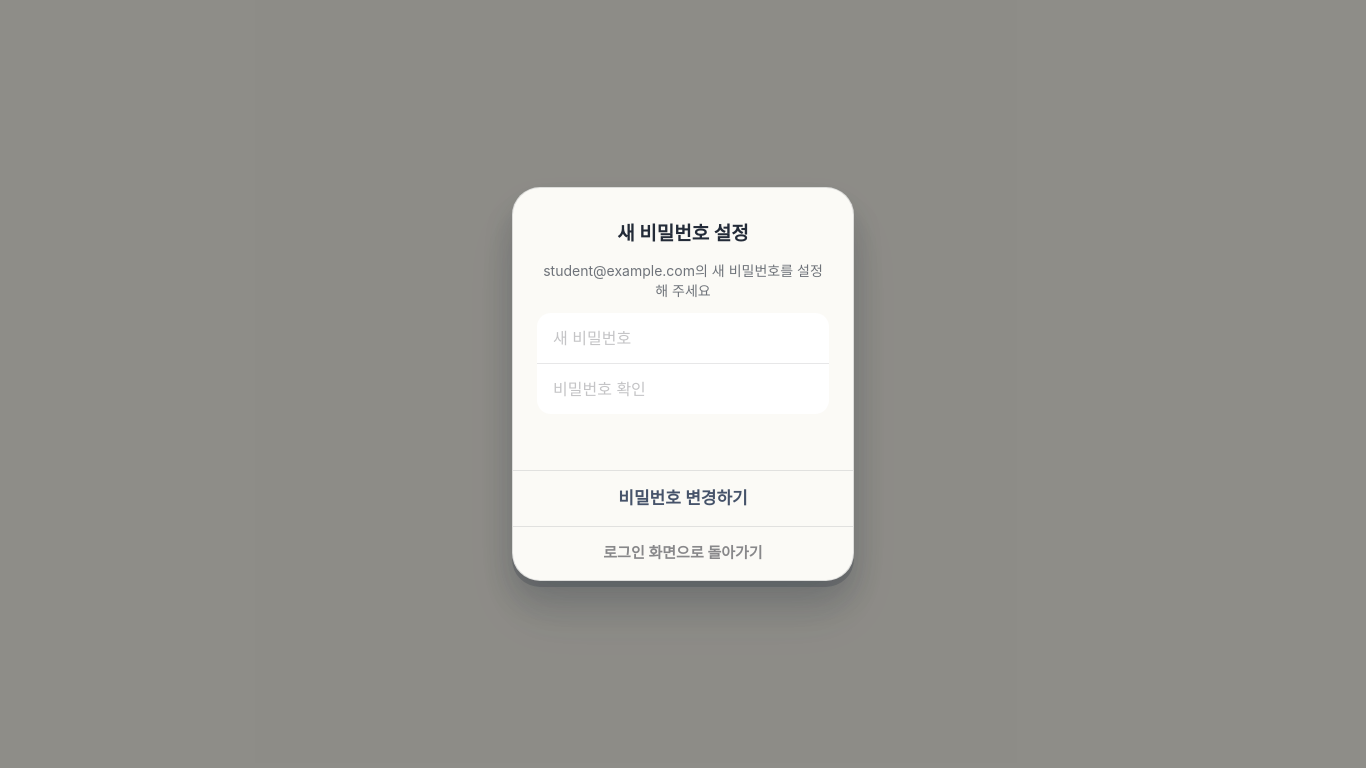
Test case: PasswordResetModal — phase=password › 두 입력값이 다르면 제출을 차단하고 불일치 오류를 표시한다(AUTH-10)
In the password field labelled "새 비밀번호": (683, 338) [553,328,813,349], type "new-pw-1234"
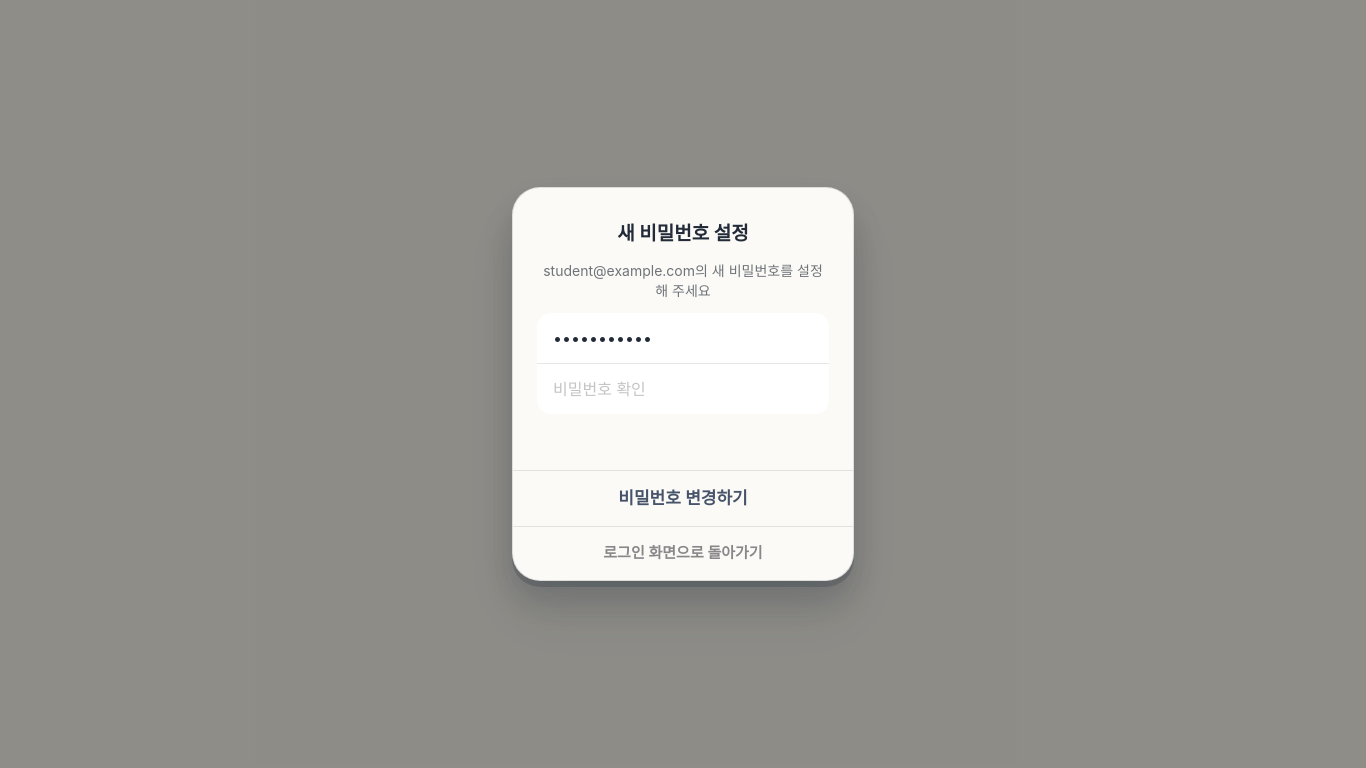
In the password field labelled "비밀번호 확인": (683, 389) [553,379,813,400], type "new-pw-9999"
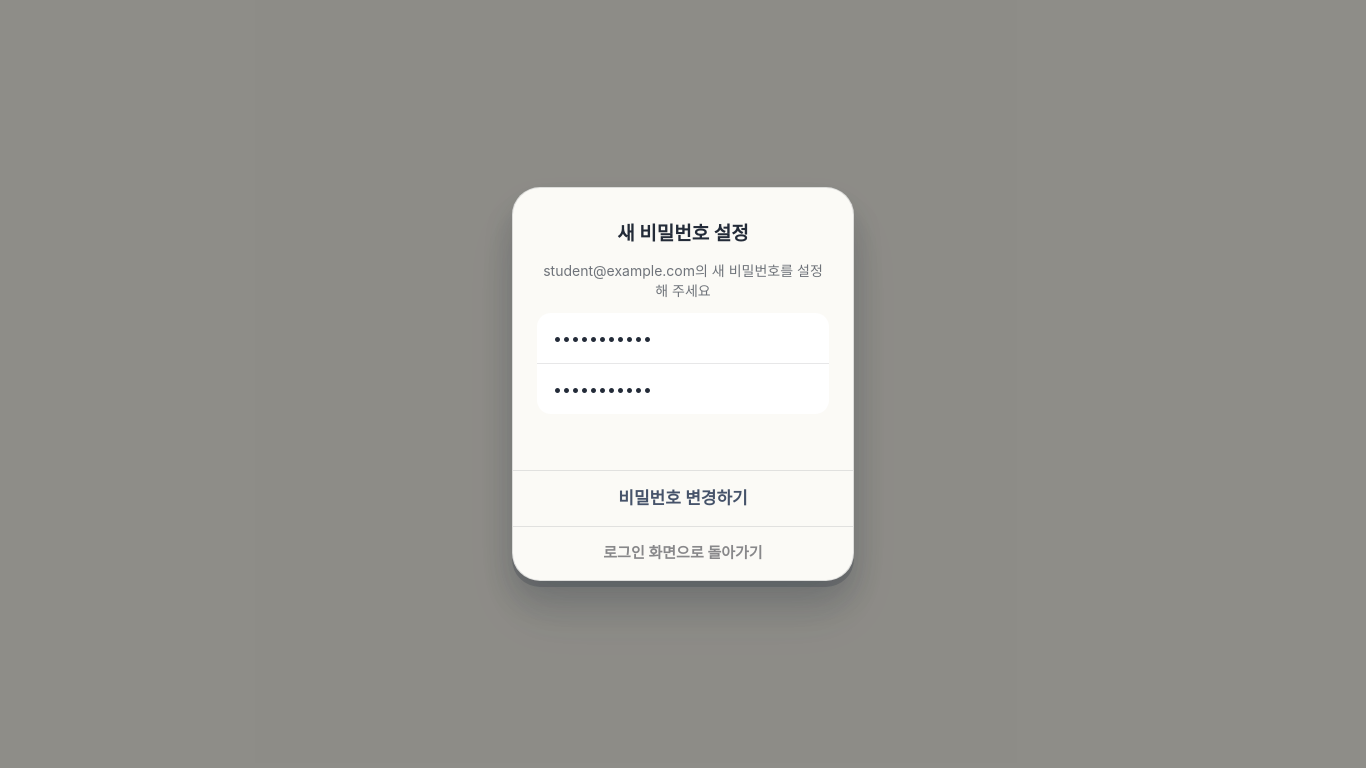
Click the button "비밀번호 변경하기": (683, 499) [513,471,853,526]
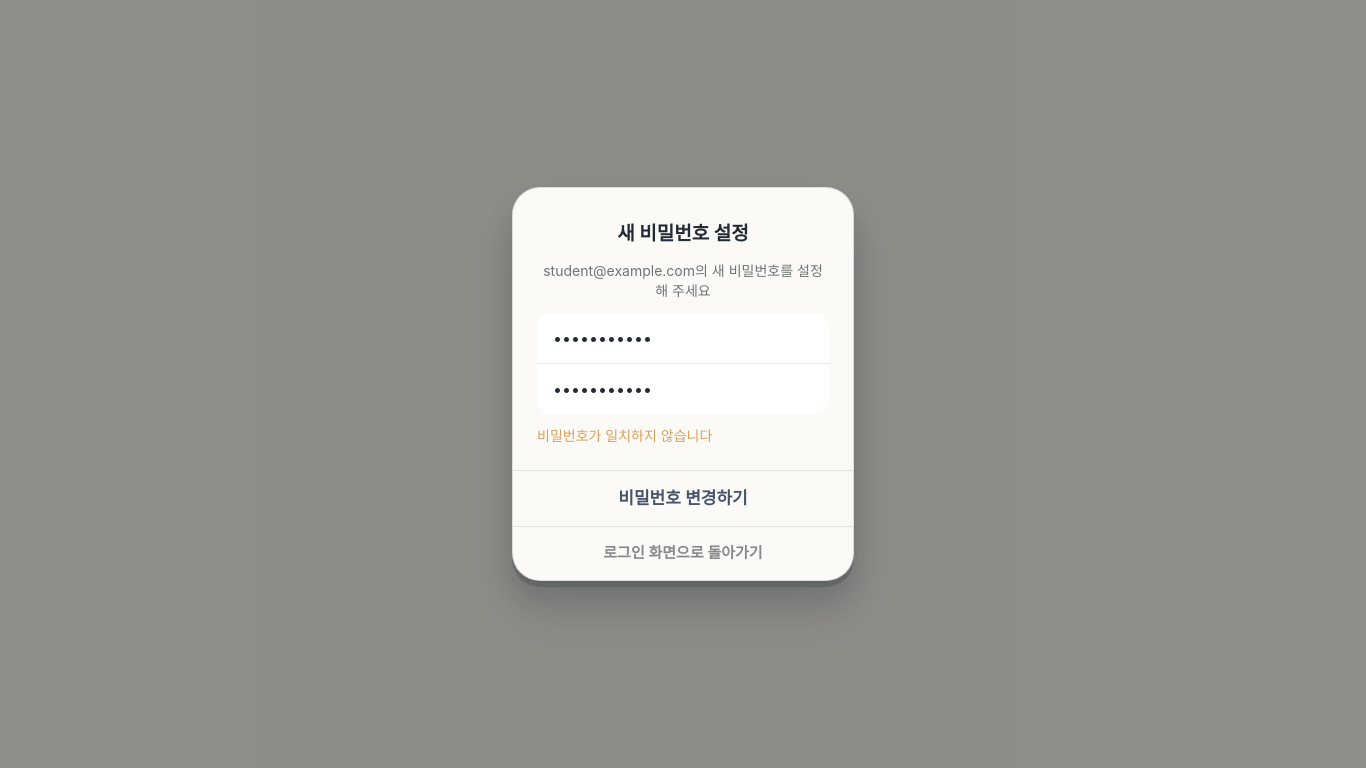
expect the text "비밀번호가 일치하지 않습니다" is shown: met, box [537,427,712,444]
